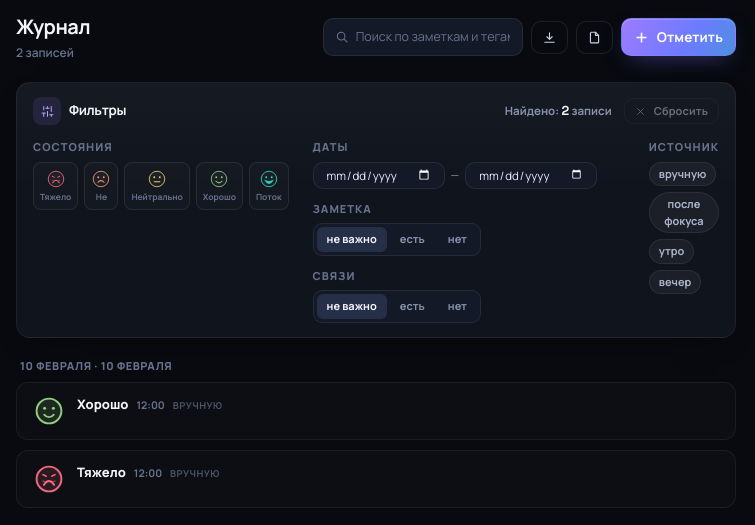
Панель фильтров журнала › кнопка «Сбросить» возвращает все записи
Click the button titled "Хорошо": point(219, 186) [196,162,243,210]
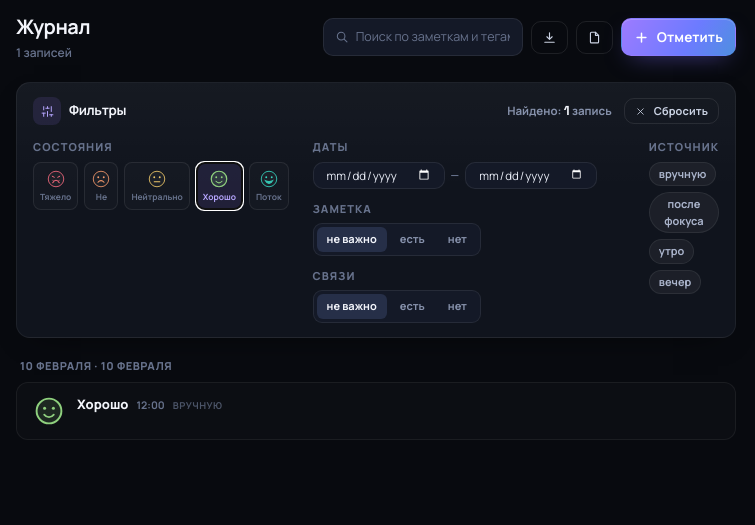
Expected: the text "Найдено: 1 запись" is shown, [507,101,612,121]
Click the button with aria-label "Сбросить фильтры": point(671, 111) [624,98,719,124]
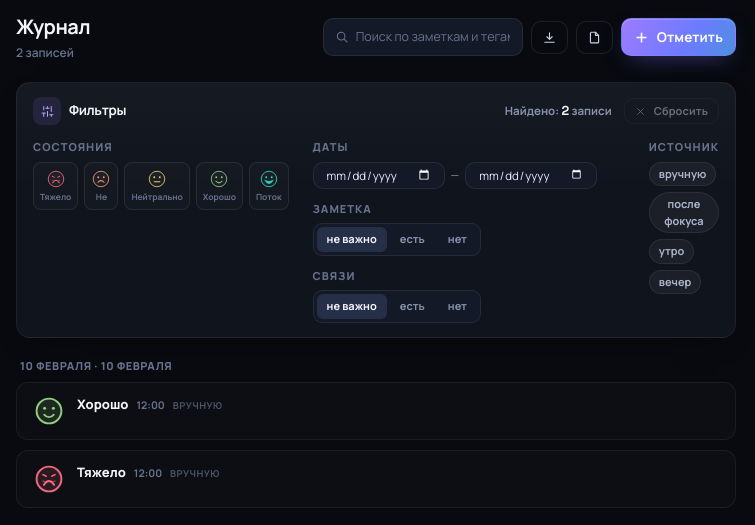
Expected: the text "Найдено: 2 записи" is shown, [505,101,612,121]
